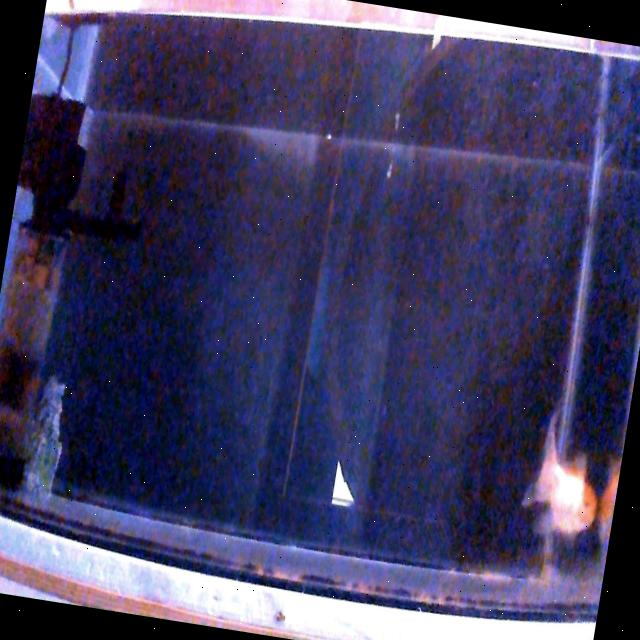fish: (518, 411, 614, 542), (588, 453, 622, 574)
